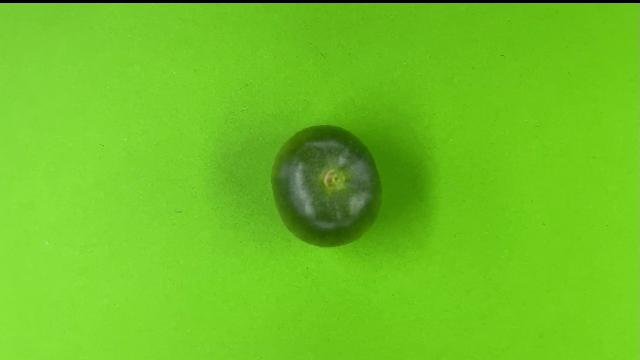Fruit Maturation: (268, 122, 386, 251)
